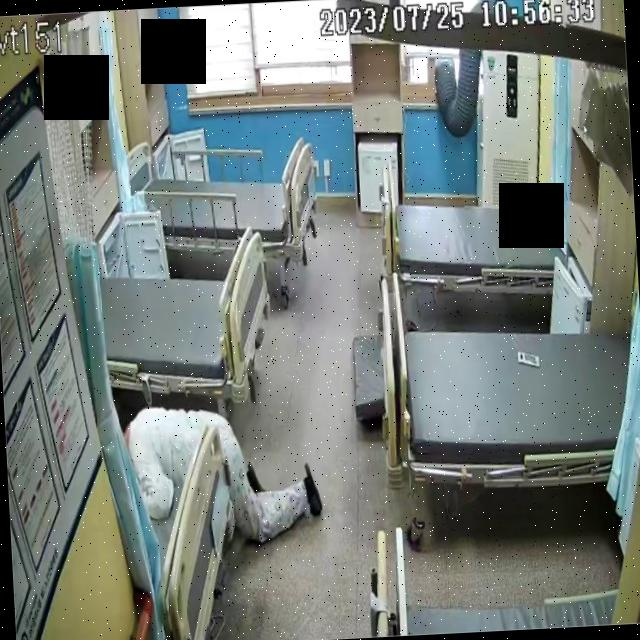bed: (397, 310, 640, 497), (97, 226, 278, 412), (126, 133, 317, 264), (382, 171, 568, 301)
fall: (127, 399, 327, 554)
patient: (127, 401, 326, 553)
